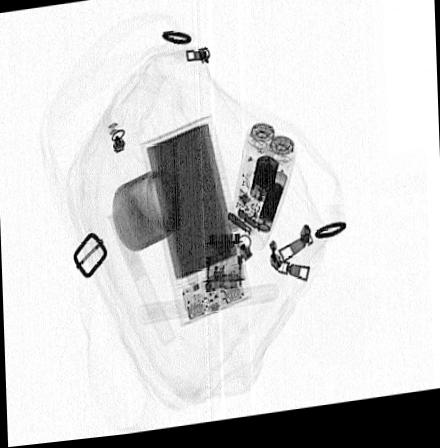Powerbank: (140, 119, 252, 331)
